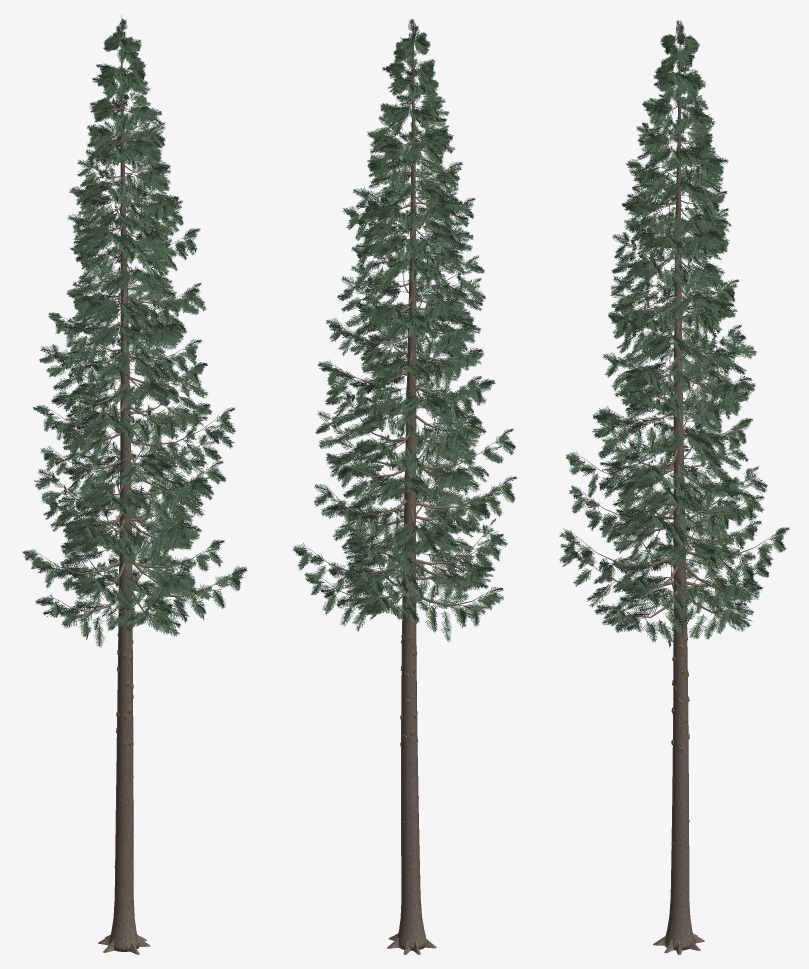
The model's file is Sitka_Mature_Benchmark_01_HighPruned_Recent_LOD0.fbx.
3 views of the same model, side by side, from view 1: azimuth 30°, elevation 25°; view 2: azimuth 150°, elevation 25°; view 3: azimuth 270°, elevation 25° (orthographic).
Parts seen in each view (by area): view 1: Sitka_Mature_Benchmark_01_HighPruned_Recent_LOD0_Foliage, Sitka_Mature_Benchmark_01_HighPruned_Recent_LOD0_Trunk, Sitka_Mature_Benchmark_01_HighPruned_Recent_LOD0_Branches; view 2: Sitka_Mature_Benchmark_01_HighPruned_Recent_LOD0_Foliage, Sitka_Mature_Benchmark_01_HighPruned_Recent_LOD0_Trunk, Sitka_Mature_Benchmark_01_HighPruned_Recent_LOD0_Branches; view 3: Sitka_Mature_Benchmark_01_HighPruned_Recent_LOD0_Foliage, Sitka_Mature_Benchmark_01_HighPruned_Recent_LOD0_Trunk, Sitka_Mature_Benchmark_01_HighPruned_Recent_LOD0_Branches.
Boxes of the visible parts, left/top/right/bottom form: Sitka_Mature_Benchmark_01_HighPruned_Recent_LOD0_Foliage: left=22, top=18, right=246, bottom=647; Sitka_Mature_Benchmark_01_HighPruned_Recent_LOD0_Trunk: left=98, top=14, right=150, bottom=954; Sitka_Mature_Benchmark_01_HighPruned_Recent_LOD0_Branches: left=34, top=35, right=234, bottom=621; Sitka_Mature_Benchmark_01_HighPruned_Recent_LOD0_Foliage: left=292, top=19, right=517, bottom=641; Sitka_Mature_Benchmark_01_HighPruned_Recent_LOD0_Trunk: left=387, top=19, right=436, bottom=954; Sitka_Mature_Benchmark_01_HighPruned_Recent_LOD0_Branches: left=306, top=38, right=504, bottom=613; Sitka_Mature_Benchmark_01_HighPruned_Recent_LOD0_Foliage: left=559, top=20, right=789, bottom=648; Sitka_Mature_Benchmark_01_HighPruned_Recent_LOD0_Trunk: left=653, top=20, right=704, bottom=954; Sitka_Mature_Benchmark_01_HighPruned_Recent_LOD0_Branches: left=572, top=35, right=777, bottom=623.
Size of the model in its own units: 580 by 2600 by 615.
Materials: 3 (3 with a texture image).
